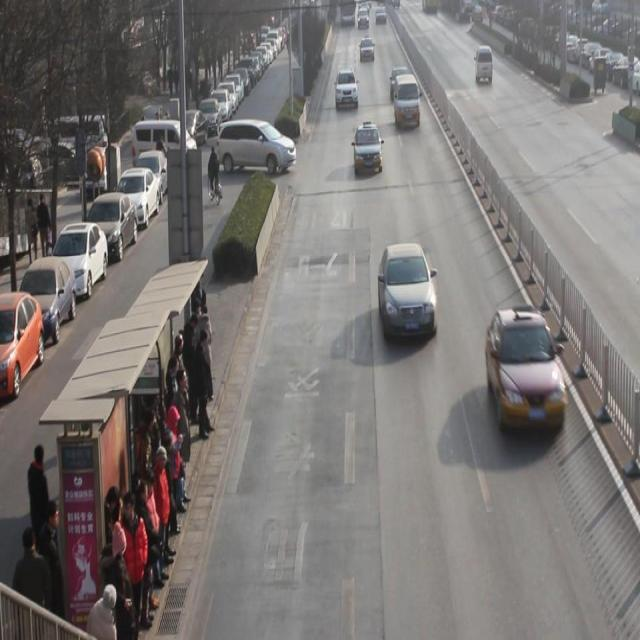car: (487, 304, 568, 438), (379, 241, 439, 342), (354, 122, 384, 174), (336, 67, 360, 110), (392, 72, 413, 108)
truck: (395, 72, 422, 128), (476, 43, 495, 84)
